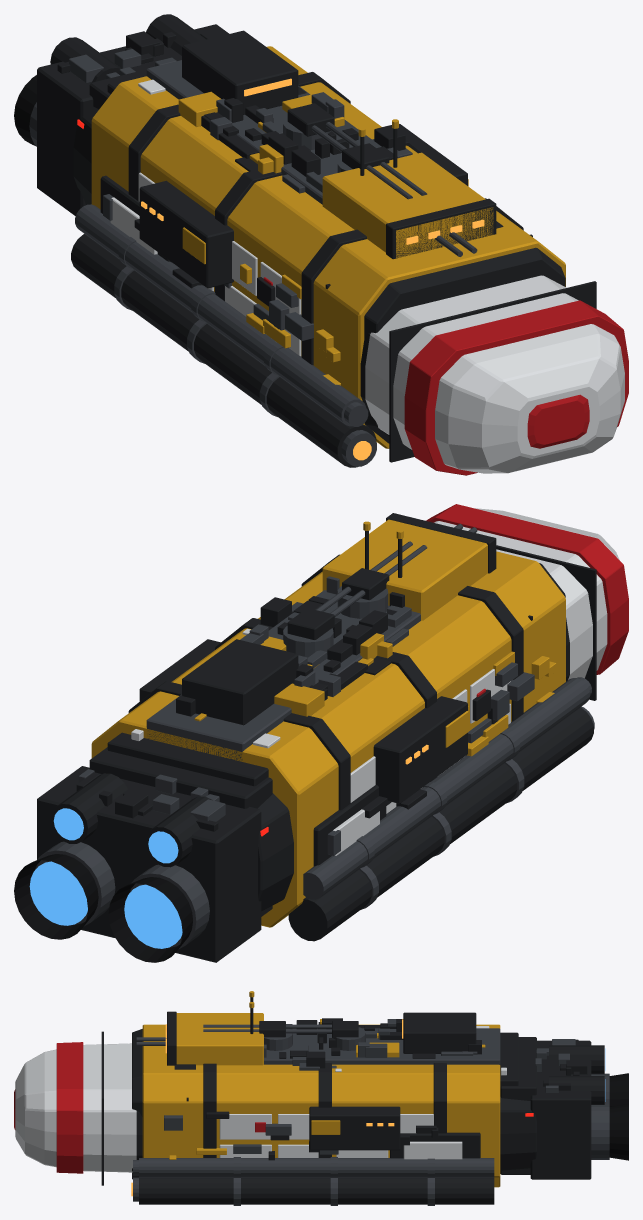
Rendered from sb_ships_v3.glb.
3 renders of one model, top to bottom at view 1: azimuth 30°, elevation 25°; view 2: azimuth 150°, elevation 25°; view 3: azimuth 270°, elevation 25°, orthographic. The views are drawn at different scales.
Parts seen in each view (by area): view 1: SB_SHIP_TANKER, SB_SHIP_CUIRASSE, SB_SHIP_FRIGATE; view 2: SB_SHIP_TANKER, SB_SHIP_CUIRASSE, SB_SHIP_FRIGATE; view 3: SB_SHIP_TANKER, SB_SHIP_CUIRASSE, SB_SHIP_FRIGATE.
Boxes of the visible parts, x1=… form: SB_SHIP_TANKER: x1=71, y1=46, x2=565, y2=467; SB_SHIP_CUIRASSE: x1=14, y1=14, x2=628, y2=475; SB_SHIP_FRIGATE: x1=100, y1=175, x2=171, y2=262; SB_SHIP_TANKER: x1=89, y1=513, x2=594, y2=941; SB_SHIP_CUIRASSE: x1=14, y1=504, x2=628, y2=962; SB_SHIP_FRIGATE: x1=313, y1=785, x2=386, y2=866; SB_SHIP_TANKER: x1=131, y1=991, x2=536, y2=1205; SB_SHIP_CUIRASSE: x1=14, y1=1012, x2=628, y2=1185; SB_SHIP_FRIGATE: x1=390, y1=1132, x2=480, y2=1159.
Bounding box in the file's own units: 16.92 × 15.55 × 50.72.
